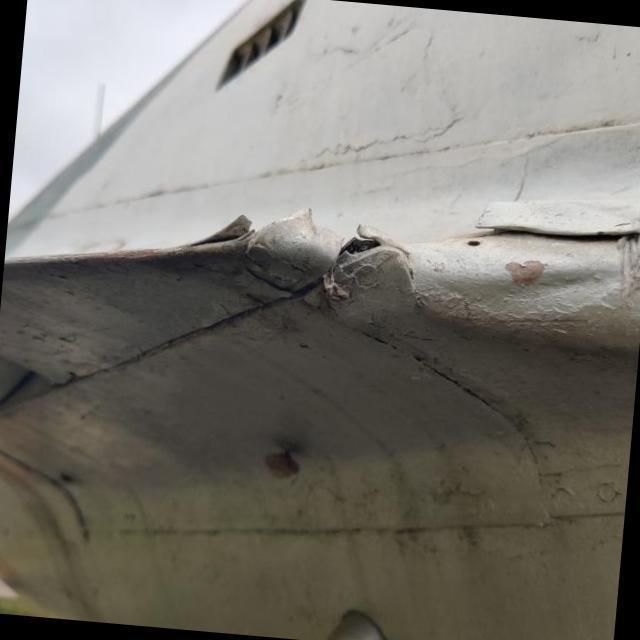Rupture: (164, 168, 319, 278), (322, 207, 408, 278)
